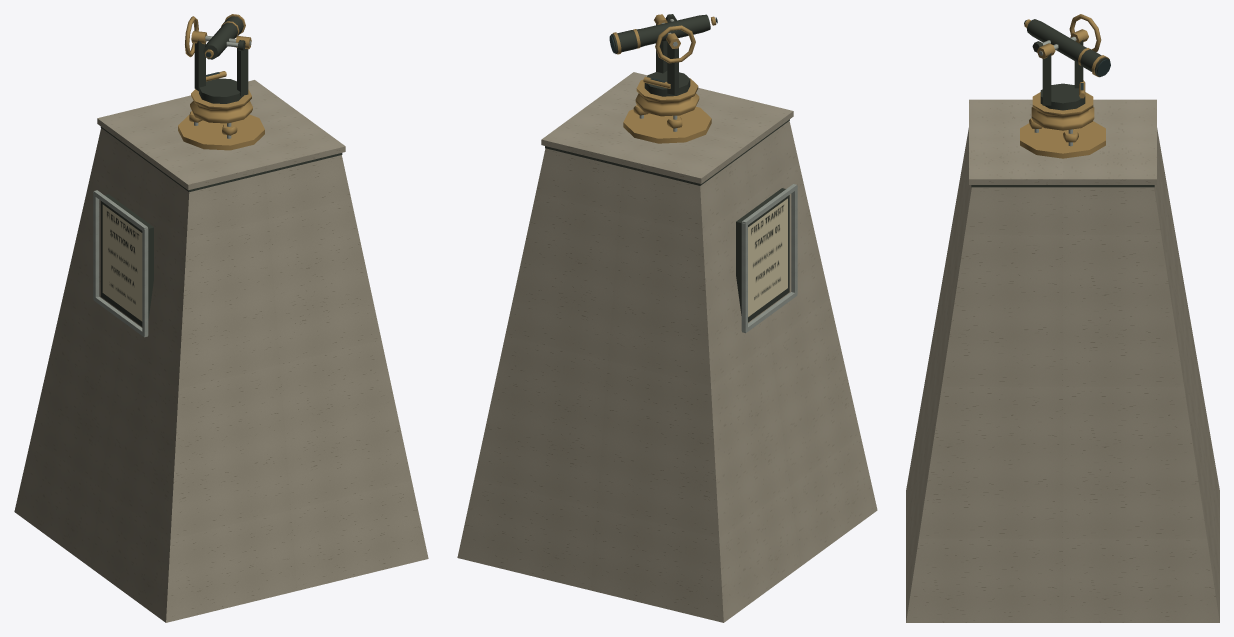
The model's file is SM_FieldKit_Transit_LOD2.glb.
The picture shows the model from 3 angles, left to right: view 1: azimuth 30°, elevation 25°; view 2: azimuth 150°, elevation 25°; view 3: azimuth 270°, elevation 25°; orthographic projection. The views are drawn at different scales.
Visible parts, largest first — view 1: SM_FieldKit_Transit_LOD2; view 2: SM_FieldKit_Transit_LOD2; view 3: SM_FieldKit_Transit_LOD2.
Part boxes in pixels (x1,y1,x2,y2): SM_FieldKit_Transit_LOD2: (14, 14, 428, 622); SM_FieldKit_Transit_LOD2: (457, 14, 877, 622); SM_FieldKit_Transit_LOD2: (906, 14, 1219, 622).
Size of the model in its own units: 0.9 by 1.68 by 0.9.
Materials: 6 (3 with a texture image).
